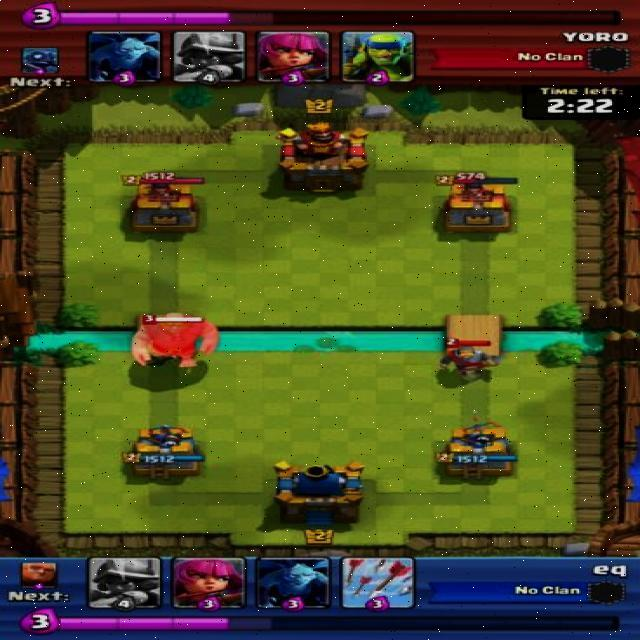EGiant: (131, 313, 218, 368)
EKingTower: (279, 122, 368, 191)
EKnight: (440, 338, 500, 377)
EnemyPrincessTower: (124, 171, 203, 232), (444, 180, 511, 232)
OwnKingTower: (274, 463, 362, 526)
OwnPrincessTower: (437, 423, 516, 477), (123, 426, 204, 476)
